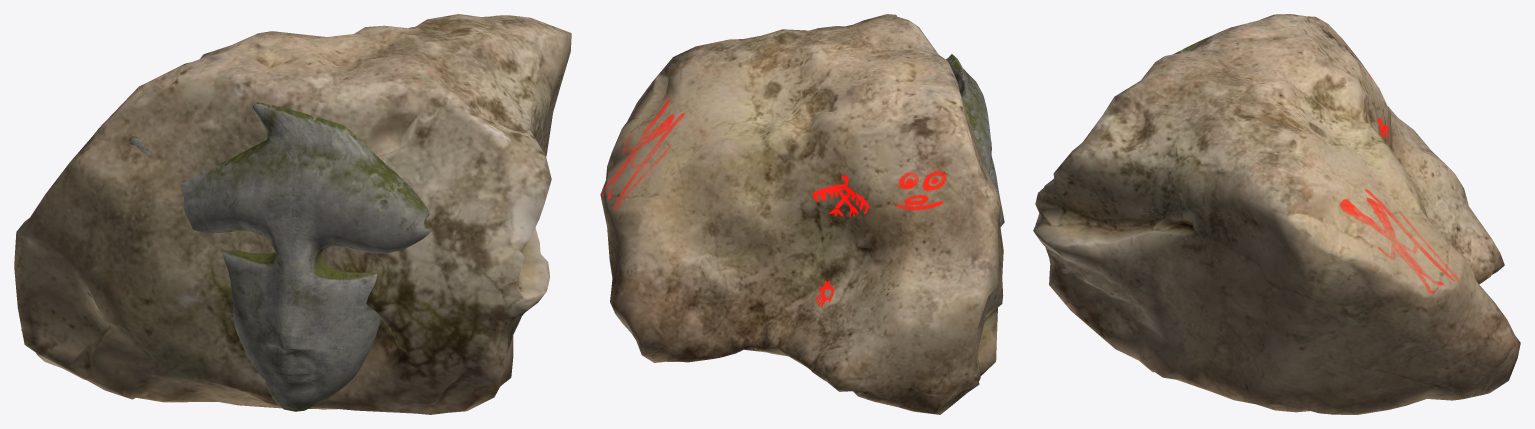
The model's file is erratic-v3.glb.
The picture shows the model from 3 angles, left to right: view 1: azimuth 30°, elevation 25°; view 2: azimuth 150°, elevation 25°; view 3: azimuth 270°, elevation 25°; orthographic projection. The views are drawn at different scales.
Parts seen in each view (by area): view 1: Limestone_Boulder009, fish_face_ready005; view 2: Limestone_Boulder009, nanbuozho-pictograph015, fish_face_ready005, nanbuozho-pictograph014; view 3: Limestone_Boulder009, nanbuozho-pictograph014.
Part boxes in pixels (bbox=[...]): Limestone_Boulder009: bbox=[14, 14, 571, 414]; fish_face_ready005: bbox=[129, 102, 431, 411]; Limestone_Boulder009: bbox=[600, 14, 1003, 414]; nanbuozho-pictograph015: bbox=[812, 170, 946, 307]; fish_face_ready005: bbox=[946, 54, 1004, 226]; nanbuozho-pictograph014: bbox=[602, 98, 684, 211]; Limestone_Boulder009: bbox=[1033, 14, 1520, 414]; nanbuozho-pictograph014: bbox=[1340, 188, 1460, 293].
Bounding box in the file's own units: 0.4168 × 0.2796 × 0.4183.
4 materials, 4 textured.
